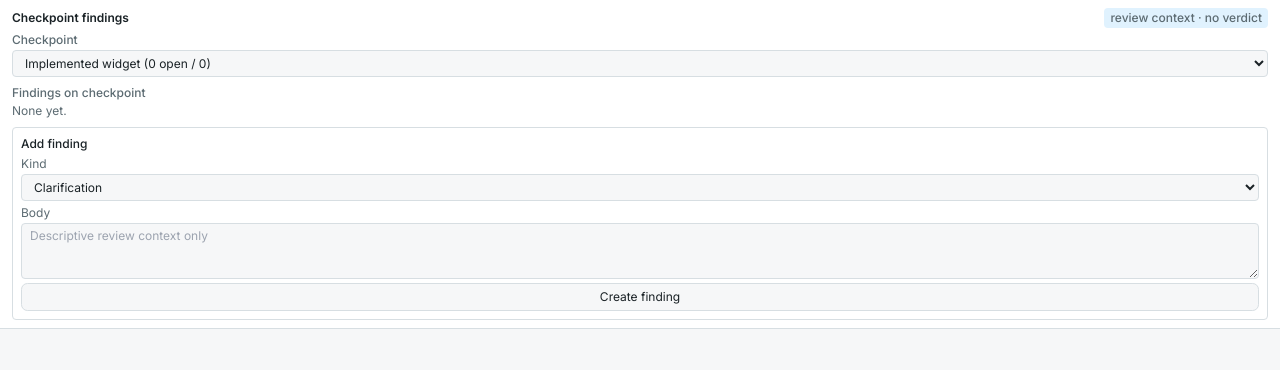
Test: CheckpointFindingsPanel behavior › surfaces backend conflict errors on create
This screenshot has width=1280, height=370.
Expected: the button "Create finding" is shown, 21,283 -> 1259,311
In the text box with placeholder "Descriptive review context only": (640, 251) 21,223 -> 1259,279, type "x"
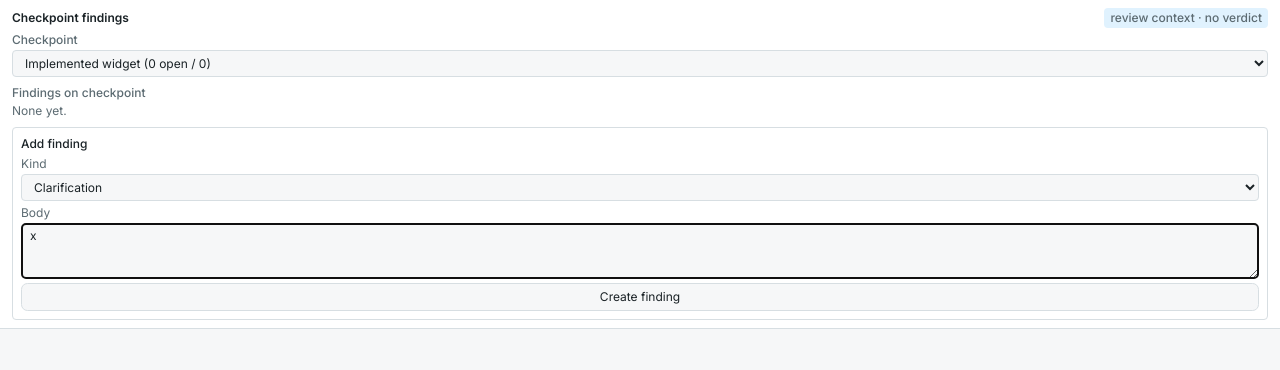
Click the button "Create finding": (640, 297) 21,283 -> 1259,311
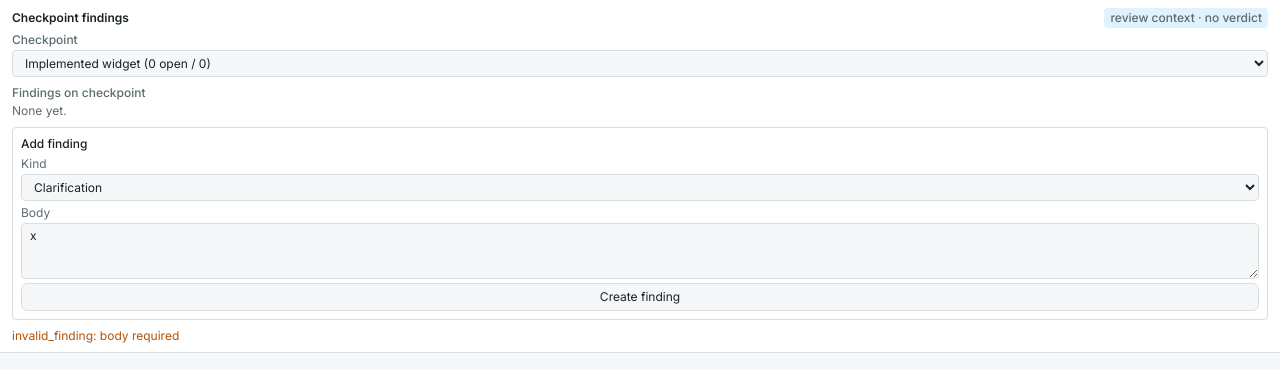
Expected: the text "invalid_finding: body required" is shown, 12,328 -> 179,343
